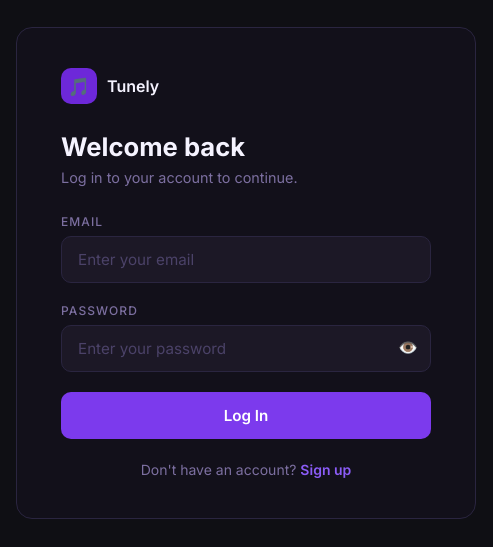
Test case: Login › shows validation error for invalid email
In the field labelled "Email": (246, 259) [61,236,431,283], type "not-an-email"
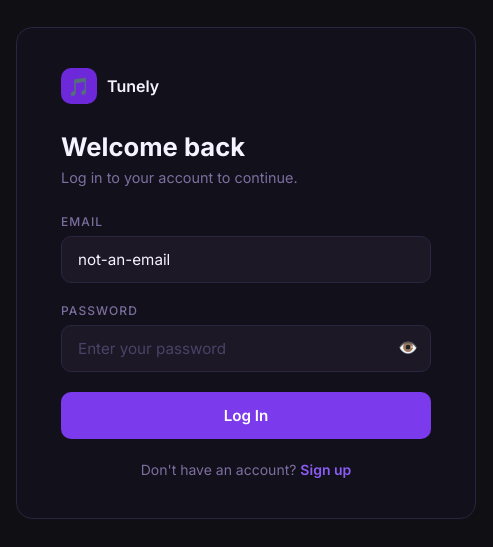
In the password field labelled "Password": (246, 348) [61,325,431,372], type "password123"
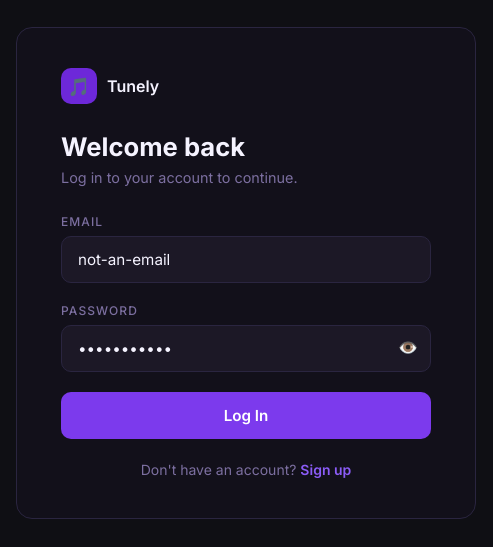
Click the button "Log In": (246, 415) [61,392,431,439]
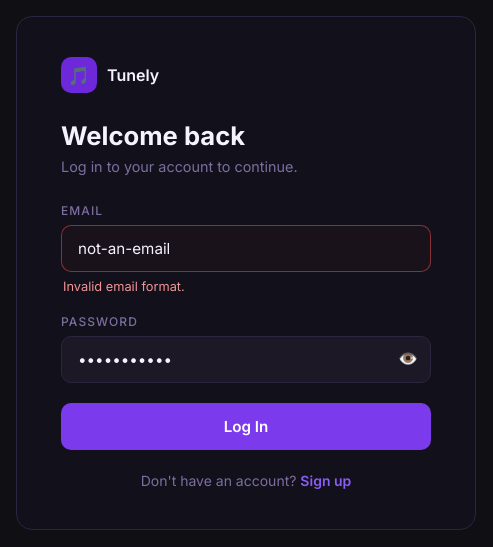
Expected: the text "Invalid email format." is shown, [63,279,185,294]
